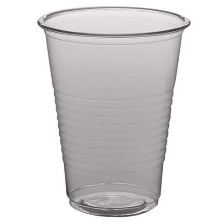glass: (31, 2, 195, 223)
